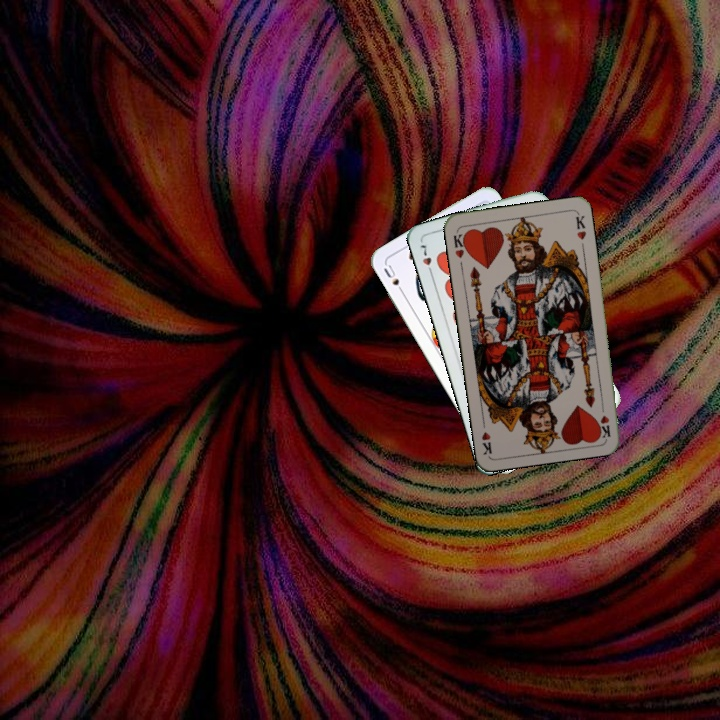H7: (416, 240, 435, 278)
HK: (596, 398, 613, 439), (450, 228, 471, 261)
SU: (380, 261, 407, 298)
